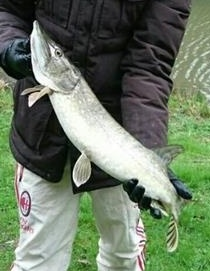Esox lucius: (20, 20, 190, 251)
